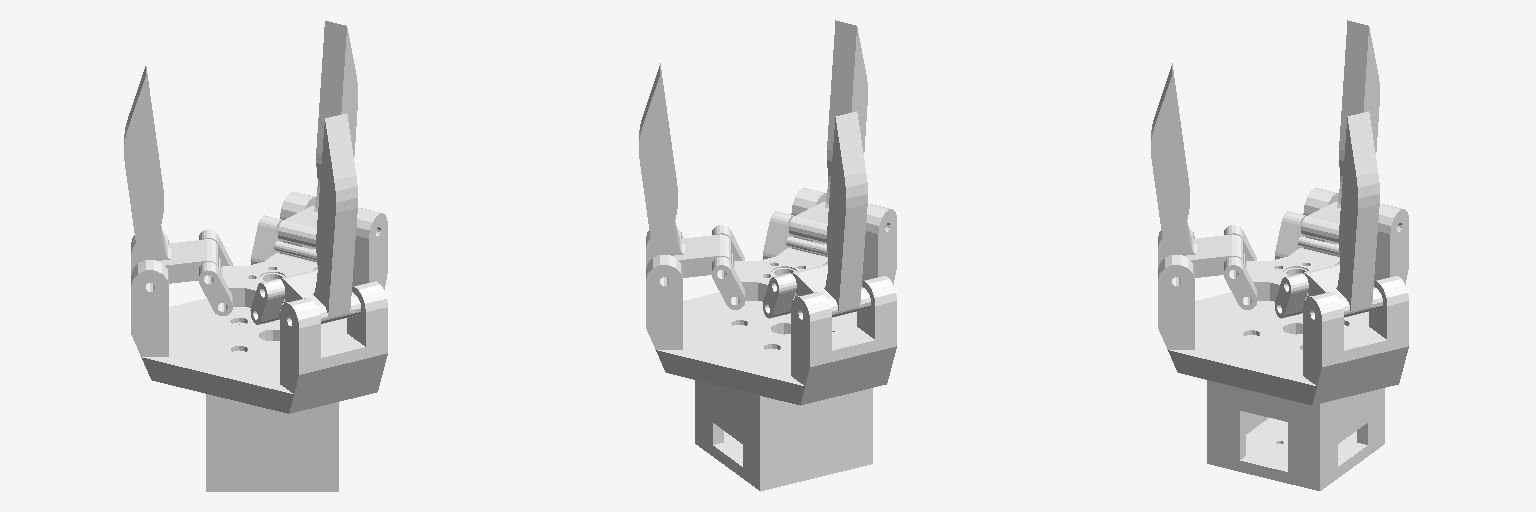
robot.urdf — threefingerv7:
<?xml version="1.0" encoding="utf-8"?>
<!-- This URDF was automatically created by SolidWorks to URDF Exporter! Originally created by [author] ([email redacted]) 
     Commit Version: 1.6.0-4-g7f85cfe  Build Version: 1.6.7995.38578
     For more information, please see http://wiki.ros.org/sw_urdf_exporter -->
<robot
  name="threefingerv7">
  <link
    name="base_link">
    <inertial>
      <origin
        xyz="-0.000400704444301246 2.53834015733273E-05 -0.00850922709249782"
        rpy="0 0 0" />
      <mass
        value="0.158098732405424" />
      <inertia
        ixx="0.000154350646624654"
        ixy="-2.77272753195956E-07"
        ixz="-2.27161818492852E-06"
        iyy="0.000154004906445453"
        iyz="-7.99058211216347E-09"
        izz="0.000217118434161234" />
    </inertial>
    <visual>
      <origin
        xyz="0 0 0"
        rpy="0 0 0" />
      <geometry>
        <mesh
          filename="package://threefingerv7/meshes/base_link.STL" />
      </geometry>
      <material
        name="">
        <color
          rgba="1 1 1 1" />
      </material>
    </visual>
    <collision>
      <origin
        xyz="0 0 0"
        rpy="0 0 0" />
      <geometry>
        <mesh
          filename="package://threefingerv7/meshes/base_link.STL" />
      </geometry>
    </collision>
  </link>
  <link
    name="move_link">
    <inertial>
      <origin
        xyz="-1.38840313242298E-18 1.1767319360884E-17 -0.00419243214234177"
        rpy="0 0 0" />
      <mass
        value="0.0085021271877303" />
      <inertia
        ixx="9.76418874057016E-07"
        ixy="-1.05879118406788E-22"
        ixz="3.53801734527502E-23"
        iyy="9.7641887405701E-07"
        iyz="5.4830223945276E-23"
        izz="1.86965817859979E-06" />
    </inertial>
    <visual>
      <origin
        xyz="0 0 0"
        rpy="0 0 0" />
      <geometry>
        <mesh
          filename="package://threefingerv7/meshes/move_link.STL" />
      </geometry>
      <material
        name="">
        <color
          rgba="1 1 1 1" />
      </material>
    </visual>
    <collision>
      <origin
        xyz="0 0 0"
        rpy="0 0 0" />
      <geometry>
        <mesh
          filename="package://threefingerv7/meshes/move_link.STL" />
      </geometry>
    </collision>
  </link>
  <joint
    name="move_joint"
    type="prismatic">
    <origin
      xyz="0 0 0.025087"
      rpy="0 0 0" />
    <parent
      link="base_link" />
    <child
      link="move_link" />
    <axis
      xyz="0 0 -1" />
    <limit
      lower="-0.5"
      upper="0.5"
      effort="5000"
      velocity="2" />
  </joint>
  <link
    name="11_link">
    <inertial>
      <origin
        xyz="-0.0064999999999939 -5.07406616723216E-15 0.015"
        rpy="0 0 0" />
      <mass
        value="0.0023425840131754" />
      <inertia
        ixx="4.99013749037845E-07"
        ixy="1.32348898008484E-23"
        ixz="-7.74228380420826E-24"
        iyy="5.48312815441792E-07"
        iyz="-4.68478650567877E-23"
        izz="7.32310540795453E-08" />
    </inertial>
    <visual>
      <origin
        xyz="0 0 0"
        rpy="0 0 0" />
      <geometry>
        <mesh
          filename="package://threefingerv7/meshes/11_link.STL" />
      </geometry>
      <material
        name="">
        <color
          rgba="1 1 1 1" />
      </material>
    </visual>
    <collision>
      <origin
        xyz="0 0 0"
        rpy="0 0 0" />
      <geometry>
        <mesh
          filename="package://threefingerv7/meshes/11_link.STL" />
      </geometry>
    </collision>
  </link>
  <joint
    name="11_joint"
    type="revolute">
    <origin
      xyz="-0.0093875 0.02274 -0.004"
      rpy="1.5708 1.1355 -0.5236" />
    <parent
      link="move_link" />
    <child
      link="11_link" />
    <axis
      xyz="0 0 -1" />
    <limit
      lower="-1.57"
      upper="1.57"
      effort="5000"
      velocity="2" />
    <mimic
      joint="move_joint"
      multiplier="1"
      offset="0" />
  </joint>
  <link
    name="12_link">
    <inertial>
      <origin
        xyz="-0.0293208969248166 -0.00876107376233067 0.0190000001135646"
        rpy="0 0 0" />
      <mass
        value="0.0122579255984349" />
      <inertia
        ixx="9.84660892016069E-07"
        ixy="1.31799544484654E-06"
        ixz="-2.57676349373328E-14"
        iyy="7.20160465350243E-06"
        iyz="1.09652704731506E-14"
        izz="7.77283391142852E-06" />
    </inertial>
    <visual>
      <origin
        xyz="0 0 0"
        rpy="0 0 0" />
      <geometry>
        <mesh
          filename="package://threefingerv7/meshes/12_link.STL" />
      </geometry>
      <material
        name="">
        <color
          rgba="1 1 1 1" />
      </material>
    </visual>
    <collision>
      <origin
        xyz="0 0 0"
        rpy="0 0 0" />
      <geometry>
        <mesh
          filename="package://threefingerv7/meshes/12_link.STL" />
      </geometry>
    </collision>
  </link>
  <joint
    name="12_joint"
    type="revolute">
    <origin
      xyz="-0.013 0 -0.004"
      rpy="0 0 0" />
    <parent
      link="11_link" />
    <child
      link="12_link" />
    <axis
      xyz="0 0 -1" />
    <limit
      lower="-1.57"
      upper="1.57"
      effort="5000"
      velocity="2" />
    <mimic
      joint="11_joint"
      multiplier="1"
      offset="0" />
  </joint>
  <link
    name="21_link">
    <inertial>
      <origin
        xyz="0.00649999999999391 -5.00901403688303E-15 -0.019"
        rpy="0 0 0" />
      <mass
        value="0.0023425840131754" />
      <inertia
        ixx="4.99013749037844E-07"
        ixy="-5.9557004103818E-23"
        ixz="-1.3648480107125E-22"
        iyy="5.48312815441791E-07"
        iyz="-8.27180612553028E-24"
        izz="7.32310540795452E-08" />
    </inertial>
    <visual>
      <origin
        xyz="0 0 0"
        rpy="0 0 0" />
      <geometry>
        <mesh
          filename="package://threefingerv7/meshes/21_link.STL" />
      </geometry>
      <material
        name="">
        <color
          rgba="1 1 1 1" />
      </material>
    </visual>
    <collision>
      <origin
        xyz="0 0 0"
        rpy="0 0 0" />
      <geometry>
        <mesh
          filename="package://threefingerv7/meshes/21_link.STL" />
      </geometry>
    </collision>
  </link>
  <joint
    name="21_joint"
    type="revolute">
    <origin
      xyz="-0.019 -0.0195 -0.004"
      rpy="1.5708 -1.1355 -1.5708" />
    <parent
      link="move_link" />
    <child
      link="21_link" />
    <axis
      xyz="0 0 1" />
    <limit
      lower="-1.57"
      upper="1.57"
      effort="5000"
      velocity="2" />
    <mimic
      joint="move_joint"
      multiplier="1"
      offset="0" />
  </joint>
  <link
    name="22_link">
    <inertial>
      <origin
        xyz="0.0293216343766863 -0.00876108435078396 -0.0190000103494336"
        rpy="0 0 0" />
      <mass
        value="0.0122572499897457" />
      <inertia
        ixx="9.84650226311451E-07"
        ixy="-1.31798330895562E-06"
        ixz="-1.09743409174181E-12"
        iyy="7.20145547037363E-06"
        iyz="3.4075082013164E-13"
        izz="7.77268089083732E-06" />
    </inertial>
    <visual>
      <origin
        xyz="0 0 0"
        rpy="0 0 0" />
      <geometry>
        <mesh
          filename="package://threefingerv7/meshes/22_link.STL" />
      </geometry>
      <material
        name="">
        <color
          rgba="1 1 1 1" />
      </material>
    </visual>
    <collision>
      <origin
        xyz="0 0 0"
        rpy="0 0 0" />
      <geometry>
        <mesh
          filename="package://threefingerv7/meshes/22_link.STL" />
      </geometry>
    </collision>
  </link>
  <joint
    name="22_joint"
    type="revolute">
    <origin
      xyz="0.013 0 0"
      rpy="0 0 0" />
    <parent
      link="21_link" />
    <child
      link="22_link" />
    <axis
      xyz="0 0 1" />
    <limit
      lower="-1.57"
      upper="1.57"
      effort="5000"
      velocity="2" />
    <mimic
      joint="21_joint"
      multiplier="1"
      offset="0" />
  </joint>
  <link
    name="31_link">
    <inertial>
      <origin
        xyz="-0.00649999999999392 -5.04370850640257E-15 0.019"
        rpy="0 0 0" />
      <mass
        value="0.0023425840131754" />
      <inertia
        ixx="4.99013749037845E-07"
        ixy="3.30872245021211E-24"
        ixz="2.23338765389317E-23"
        iyy="5.48312815441792E-07"
        iyz="2.15066959263787E-22"
        izz="7.32310540795452E-08" />
    </inertial>
    <visual>
      <origin
        xyz="0 0 0"
        rpy="0 0 0" />
      <geometry>
        <mesh
          filename="package://threefingerv7/meshes/31_link.STL" />
      </geometry>
      <material
        name="">
        <color
          rgba="1 1 1 1" />
      </material>
    </visual>
    <collision>
      <origin
        xyz="0 0 0"
        rpy="0 0 0" />
      <geometry>
        <mesh
          filename="package://threefingerv7/meshes/31_link.STL" />
      </geometry>
    </collision>
  </link>
  <joint
    name="31_joint"
    type="revolute">
    <origin
      xyz="0.026387 -0.0067045 -0.004"
      rpy="1.5708 1.1355 -2.618" />
    <parent
      link="move_link" />
    <child
      link="31_link" />
    <axis
      xyz="0 0 -1" />
    <limit
      lower="-1.57"
      upper="1.57"
      effort="5000"
      velocity="2" />
    <mimic
      joint="move_joint"
      multiplier="1"
      offset="0" />
  </joint>
  <link
    name="32_link">
    <inertial>
      <origin
        xyz="0.0293216345242573 -0.00876108429611774 -0.0189999898761313"
        rpy="0 0 0" />
      <mass
        value="0.0122572498826079" />
      <inertia
        ixx="9.84650224489368E-07"
        ixy="-1.31798329819406E-06"
        ixz="1.04568287397069E-12"
        iyy="7.20145543798657E-06"
        iyz="-3.61695921355528E-13"
        izz="7.77268085824629E-06" />
    </inertial>
    <visual>
      <origin
        xyz="0 0 0"
        rpy="0 0 0" />
      <geometry>
        <mesh
          filename="package://threefingerv7/meshes/32_link.STL" />
      </geometry>
      <material
        name="">
        <color
          rgba="1 1 1 1" />
      </material>
    </visual>
    <collision>
      <origin
        xyz="0 0 0"
        rpy="0 0 0" />
      <geometry>
        <mesh
          filename="package://threefingerv7/meshes/32_link.STL" />
      </geometry>
    </collision>
  </link>
  <joint
    name="32_joint"
    type="revolute">
    <origin
      xyz="-0.013 0 0"
      rpy="3.1416 0 3.1416" />
    <parent
      link="31_link" />
    <child
      link="32_link" />
    <axis
      xyz="0 0 1" />
    <limit
      lower="-1.57"
      upper="1.57"
      effort="5000"
      velocity="2" />
    <mimic
      joint="31_joint"
      multiplier="1"
      offset="0" />
  </joint>
  <link
    name="12_link2">
    <inertial>
      <origin
        xyz="-0.0257672114540679 -0.00251198810799962 -0.0200000001135646"
        rpy="0 0 0" />
      <mass
        value="0.0122579255984349" />
      <inertia
        ixx="1.08217608123952E-06"
        ixy="1.5276940884221E-06"
        ixz="2.79885195806309E-14"
        iyy="7.10408946427898E-06"
        iyz="-9.22469868117888E-16"
        izz="7.77283391142852E-06" />
    </inertial>
    <visual>
      <origin
        xyz="0 0 0"
        rpy="0 0 0" />
      <geometry>
        <mesh
          filename="package://threefingerv7/meshes/12_link2.STL" />
      </geometry>
      <material
        name="">
        <color
          rgba="1 1 1 1" />
      </material>
    </visual>
    <collision>
      <origin
        xyz="0 0 0"
        rpy="0 0 0" />
      <geometry>
        <mesh
          filename="package://threefingerv7/meshes/12_link2.STL" />
      </geometry>
    </collision>
  </link>
  <joint
    name="12_joint2"
    type="revolute">
    <origin
      xyz="-0.031397 0.041221 0.03"
      rpy="1.0472 1.5708 2.093" />
    <parent
      link="base_link" />
    <child
      link="12_link2" />
    <axis
      xyz="0 0 -1" />
    <limit
      lower="-1.57"
      upper="1.57"
      effort="5000"
      velocity="2" />
  </joint>
  <link
    name="22_link2">
    <inertial>
      <origin
        xyz="-0.0257678756757427 -0.00251166755075601 -0.0200000103494336"
        rpy="0 0 0" />
      <mass
        value="0.0122572499897457" />
      <inertia
        ixx="1.08215006735288E-06"
        ixy="1.52764894748895E-06"
        ixz="8.51419242627871E-13"
        iyy="7.1039556293322E-06"
        iyz="-7.71724029513573E-13"
        izz="7.77268089083732E-06" />
    </inertial>
    <visual>
      <origin
        xyz="0 0 0"
        rpy="0 0 0" />
      <geometry>
        <mesh
          filename="package://threefingerv7/meshes/22_link2.STL" />
      </geometry>
      <material
        name="">
        <color
          rgba="1 1 1 1" />
      </material>
    </visual>
    <collision>
      <origin
        xyz="0 0 0"
        rpy="0 0 0" />
      <geometry>
        <mesh
          filename="package://threefingerv7/meshes/22_link2.STL" />
      </geometry>
    </collision>
  </link>
  <joint
    name="22_joint2"
    type="revolute">
    <origin
      xyz="-0.02 -0.047801 0.03"
      rpy="3.1416 1.5708 0" />
    <parent
      link="base_link" />
    <child
      link="22_link2" />
    <axis
      xyz="0 0 -1" />
    <limit
      lower="-1.57"
      upper="1.57"
      effort="5000"
      velocity="2" />
  </joint>
  <link
    name="32_link2">
    <inertial>
      <origin
        xyz="-0.0257678758326022 -0.00251166753809726 -0.0199999898761313"
        rpy="0 0 0" />
      <mass
        value="0.0122572498826079" />
      <inertia
        ixx="1.0821500683257E-06"
        ixy="1.52764894273758E-06"
        ixz="-7.9566191835571E-13"
        iyy="7.10395559415024E-06"
        iyz="7.68894483766018E-13"
        izz="7.77268085824629E-06" />
    </inertial>
    <visual>
      <origin
        xyz="0 0 0"
        rpy="0 0 0" />
      <geometry>
        <mesh
          filename="package://threefingerv7/meshes/32_link2.STL" />
      </geometry>
      <material
        name="">
        <color
          rgba="1 1 1 1" />
      </material>
    </visual>
    <collision>
      <origin
        xyz="0 0 0"
        rpy="0 0 0" />
      <geometry>
        <mesh
          filename="package://threefingerv7/meshes/32_link2.STL" />
      </geometry>
    </collision>
  </link>
  <joint
    name="32_joint2"
    type="revolute">
    <origin
      xyz="0.051397 0.0065801 0.03"
      rpy="1.0472 1.5708 0" />
    <parent
      link="base_link" />
    <child
      link="32_link2" />
    <axis
      xyz="0 0 -1" />
    <limit
      lower="-1.57"
      upper="1.57"
      effort="5000"
      velocity="2" />
  </joint>
</robot>

--- Facts derived from the render (not from the file) ---
Views: 3 orthographic renders of the robot side by side, from view 1: azimuth 30°, elevation 25°; view 2: azimuth 150°, elevation 25°; view 3: azimuth 270°, elevation 25°.
Robot: threefingerv7 — 11 links, 10 joints (9 revolute, 1 prismatic); root link base_link; default pose: every joint at zero.
Visible links, largest first — view 1: base_link, 22_link, 12_link2, 32_link2, move_link, 11_link, 31_link, 21_link, 32_link; view 2: base_link, 12_link2, 32_link, 22_link2, move_link, 31_link, 22_link, 21_link, 32_link2, 11_link; view 3: base_link, 22_link2, 12_link2, 32_link, 32_link2, move_link, 21_link, 11_link, 31_link, 22_link.
Boxes of the visible links, x1,y1,x2,y2 form: base_link: [131, 192, 387, 491]; 22_link: [280, 113, 360, 323]; 12_link2: [124, 66, 218, 283]; 32_link2: [281, 21, 357, 230]; move_link: [221, 253, 317, 319]; 11_link: [199, 229, 232, 315]; 31_link: [250, 215, 316, 264]; 21_link: [250, 279, 286, 324]; 32_link: [278, 223, 316, 248]; base_link: [646, 188, 896, 491]; 12_link2: [791, 111, 870, 317]; 32_link: [639, 66, 731, 277]; 22_link2: [789, 20, 856, 243]; move_link: [734, 248, 827, 313]; 31_link: [712, 225, 744, 309]; 22_link: [791, 27, 867, 226]; 21_link: [763, 211, 827, 259]; 32_link2: [660, 63, 723, 259]; 11_link: [763, 273, 797, 318]; base_link: [1158, 188, 1408, 490]; 22_link2: [1151, 63, 1243, 277]; 12_link2: [1301, 20, 1379, 243]; 32_link: [1304, 111, 1381, 317]; 32_link2: [1303, 117, 1382, 314]; move_link: [1246, 248, 1339, 313]; 21_link: [1224, 225, 1256, 309]; 11_link: [1275, 211, 1339, 259]; 31_link: [1275, 273, 1309, 318]; 22_link: [1151, 66, 1240, 258].
Size in the robot's own frame: 0.1158 by 0.103 by 0.1695 metres.
Meshes: 11 distinct files referenced, 10 mesh visuals loaded (10 binary STL); not drawn: 1 (reference not matched to a file when rendering).